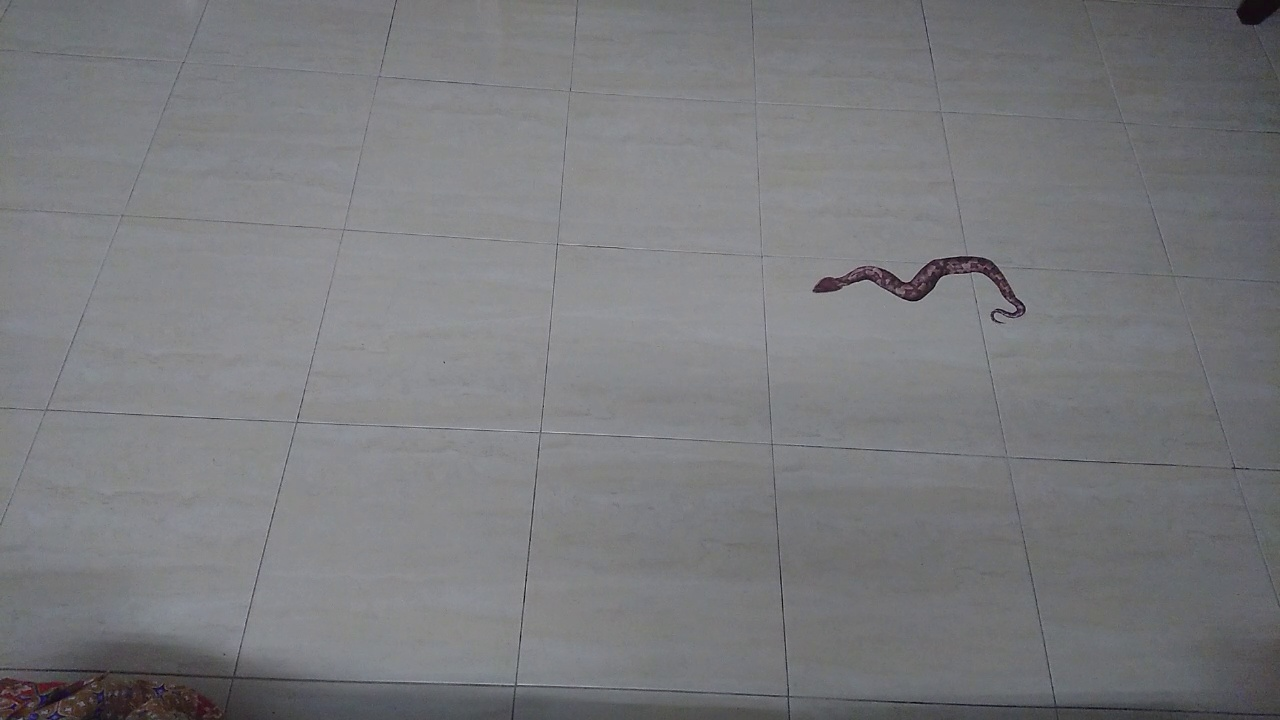snake: (794, 242, 1038, 332)
